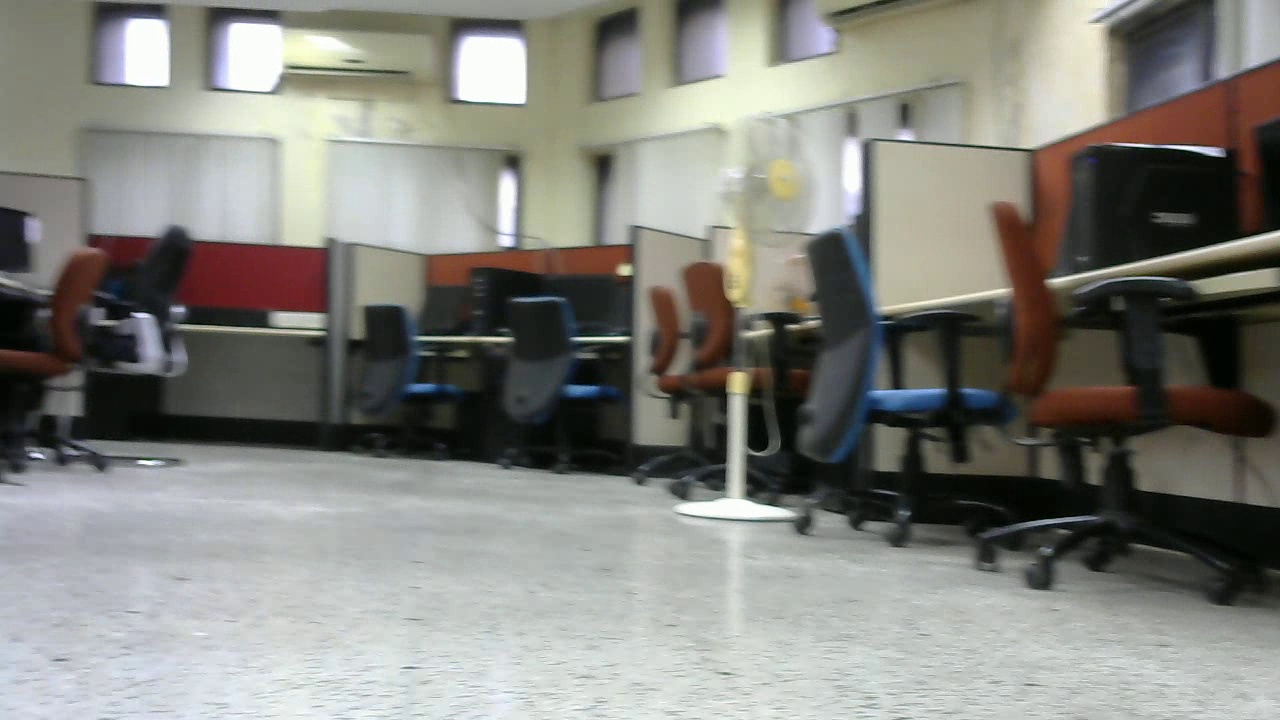chair: (966, 201, 1277, 603), (780, 231, 1014, 541), (639, 260, 798, 498), (58, 224, 192, 467), (484, 297, 623, 482), (334, 305, 483, 462)
